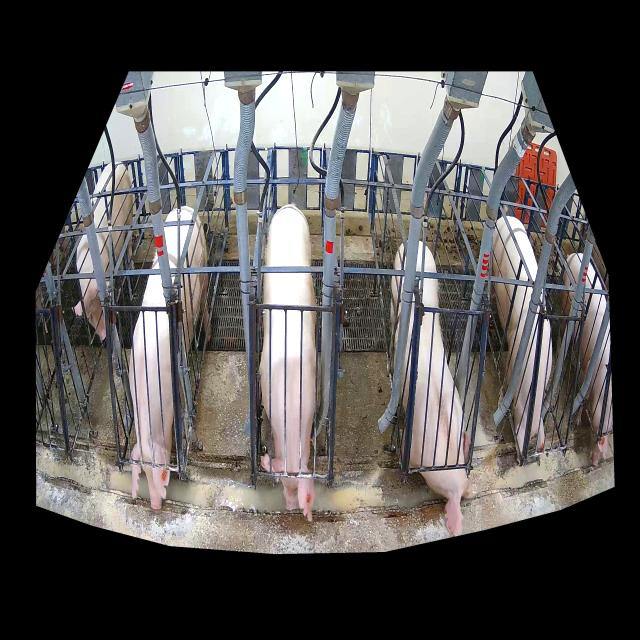pig: (389, 240, 476, 535), (129, 207, 212, 510), (261, 204, 317, 521), (490, 216, 552, 455), (560, 253, 614, 466), (72, 162, 133, 342)
